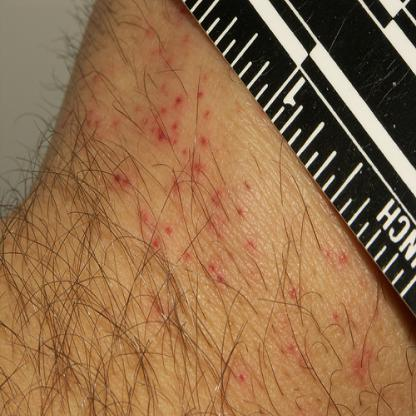Bed Bug: (128, 76, 224, 156), (204, 175, 256, 285), (138, 202, 190, 268), (141, 11, 197, 64), (82, 70, 120, 143), (340, 338, 378, 388), (276, 328, 310, 372), (163, 158, 203, 194), (228, 356, 253, 398), (317, 238, 349, 270), (151, 288, 175, 330), (108, 163, 136, 194), (282, 276, 304, 302), (328, 302, 344, 330)
